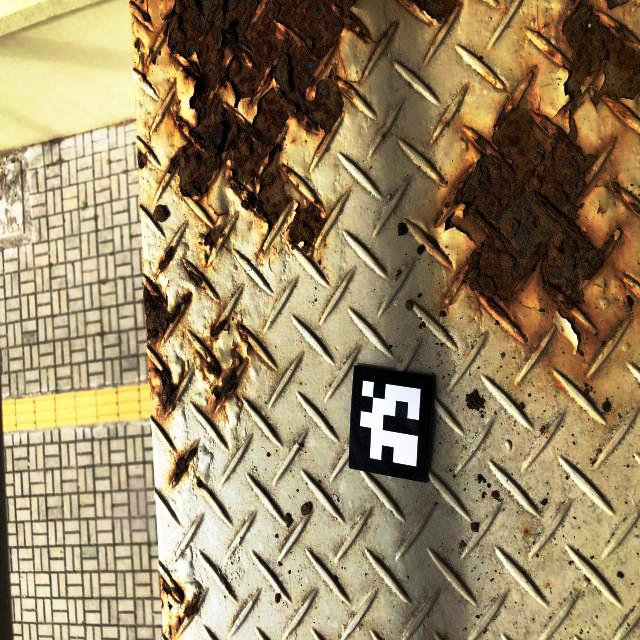Corrosion: (432, 0, 640, 354), (130, 0, 399, 262), (143, 240, 258, 425), (396, 0, 466, 63), (160, 573, 203, 640), (169, 446, 198, 489), (195, 221, 228, 258), (137, 150, 150, 172), (196, 474, 206, 489), (540, 22, 550, 33), (524, 528, 528, 534)
